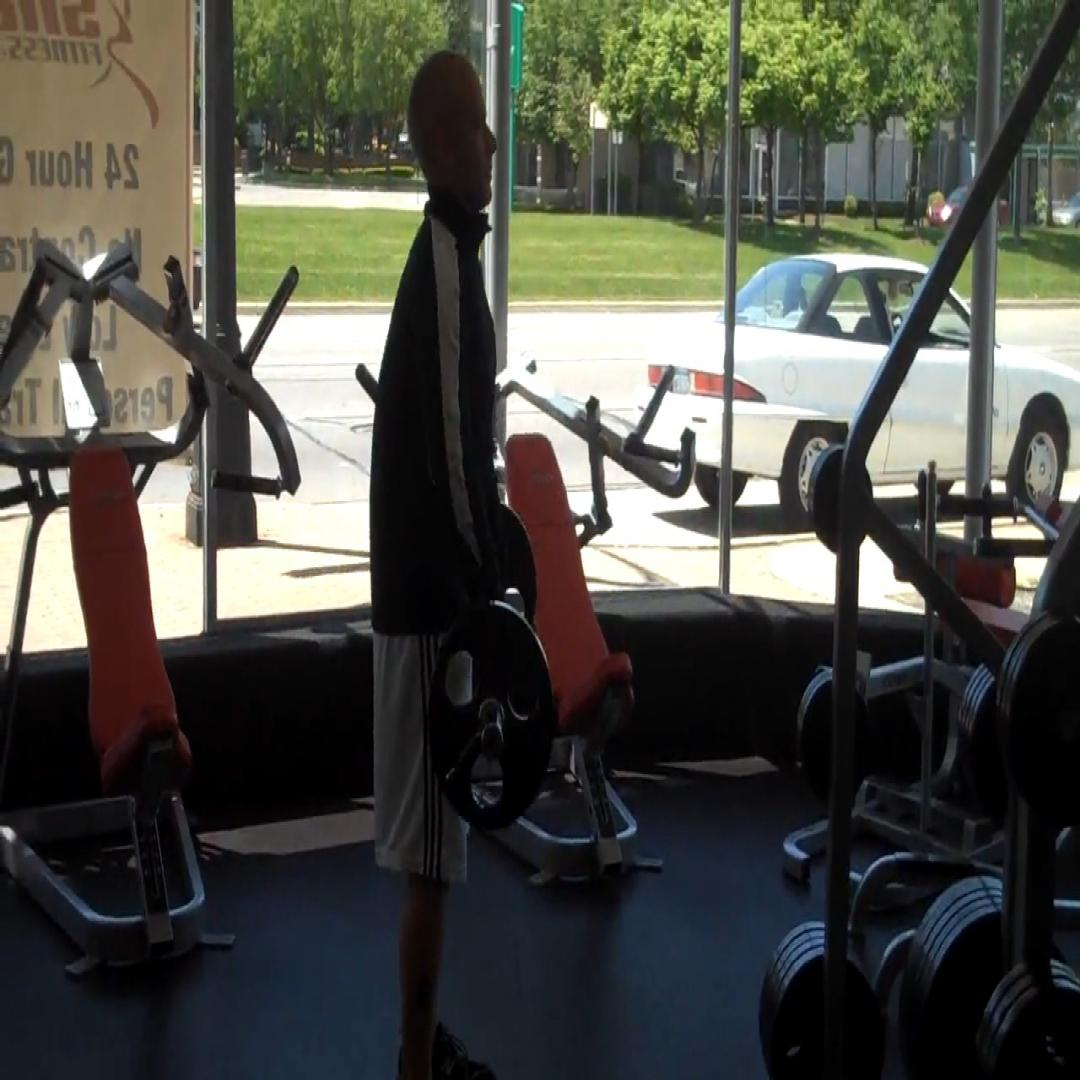Bar: (481, 723, 504, 762)
Barbell: (425, 602, 556, 831)
